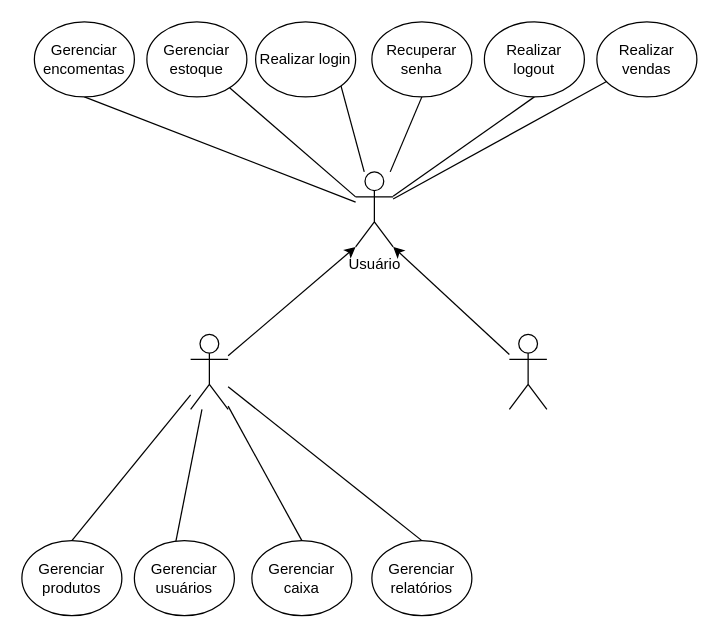
Image size: 719x638. Some labels were removed from this diagram. Here are the shapes that lost their labels. From the top down, the centre of each, then its label:
At pixel 208 371: "Administrador".
At pixel 527 371: "Funcionário".
